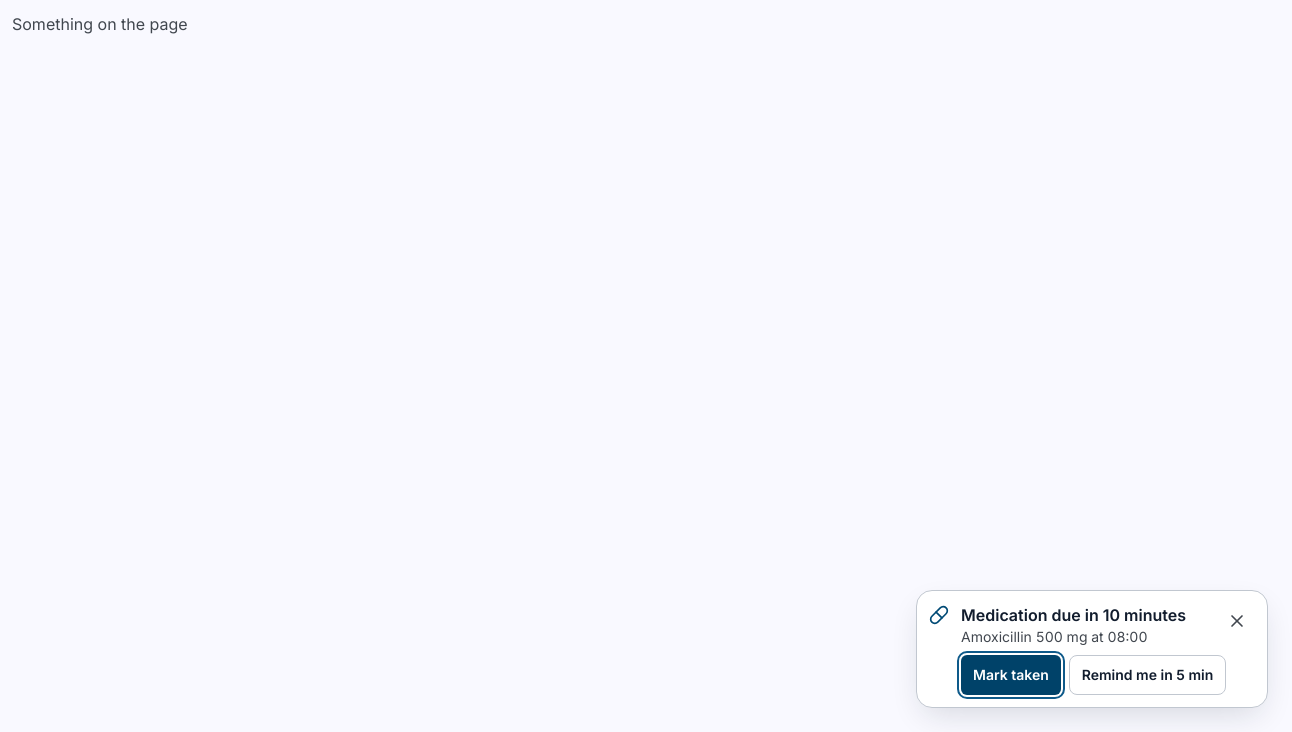
Test: the reminder card › keeps the card, with its message, when marking it taken fails, and later changes take no focus
This screenshot has width=1292, height=732.
Click the button with aria-label "Mark taken: Amoxicillin": [1011, 675] box [961,655,1061,695]
Wait 61000 ms
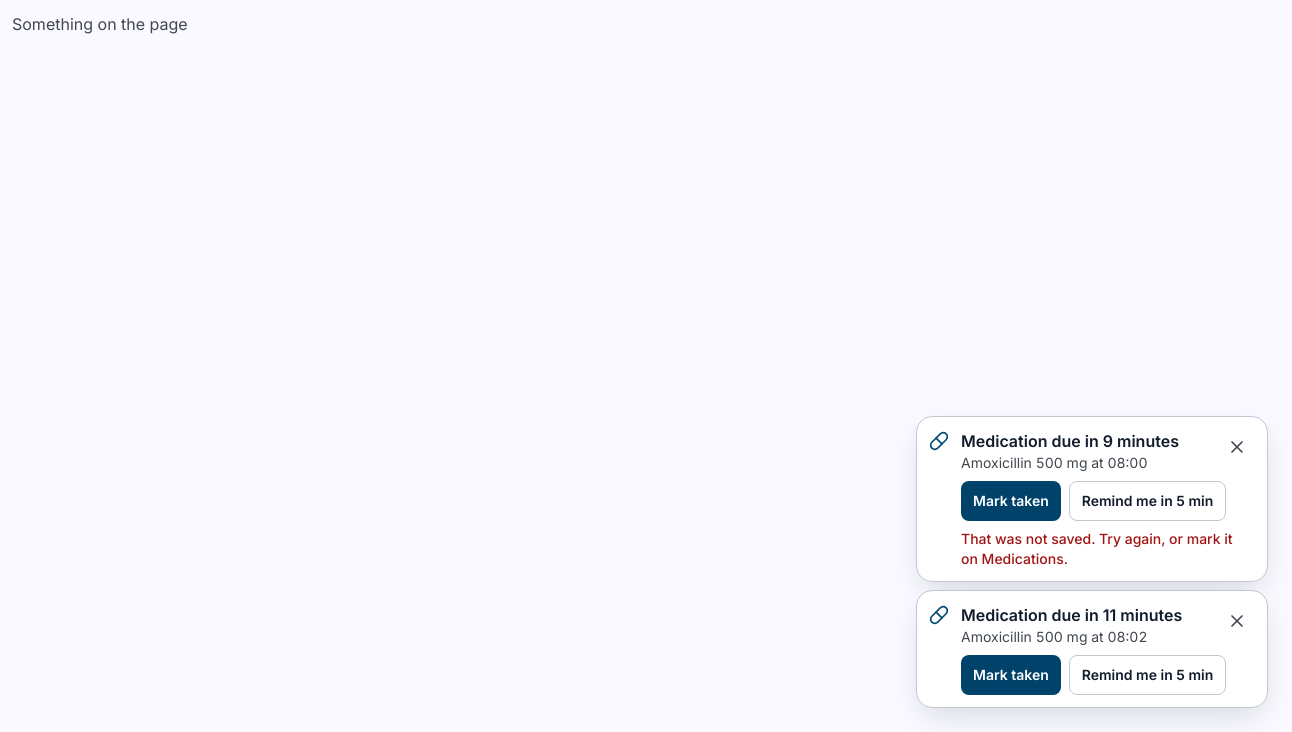
Expected: the message shows "That was not saved.", [961,530,1233,567]
Expected: the number of list items is 2, [916,416,1268,582]; [916,590,1268,708]
